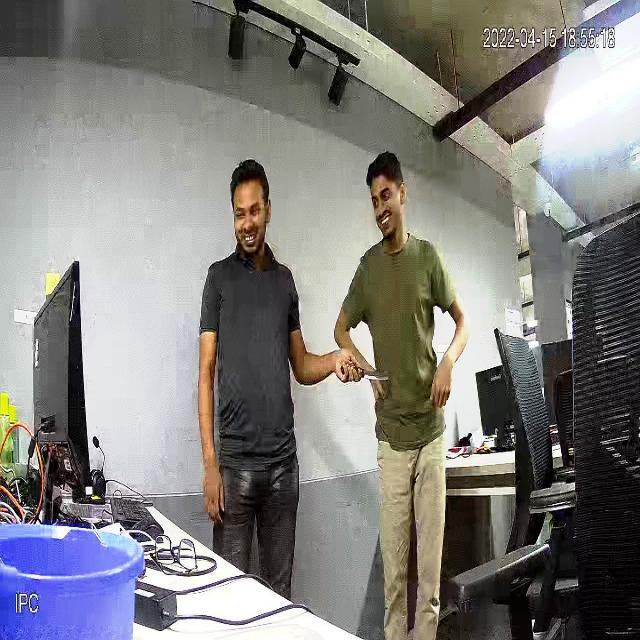Knife: (336, 355, 398, 400)
